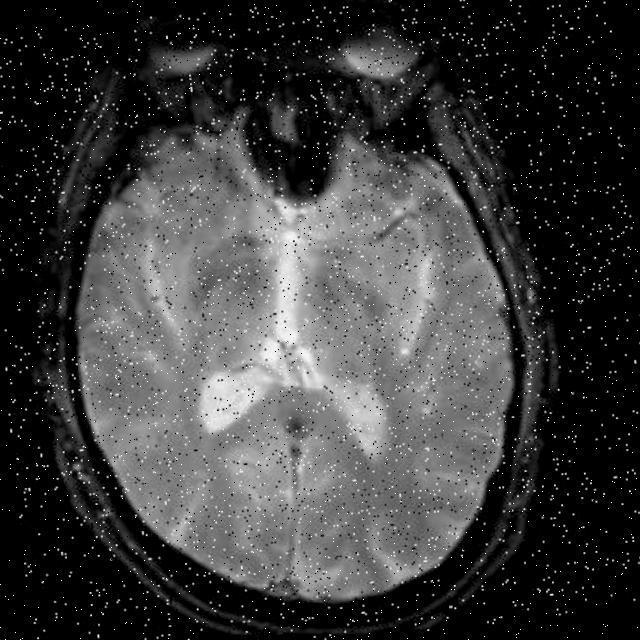EMCI: (295, 234, 408, 346), (196, 220, 270, 314)
